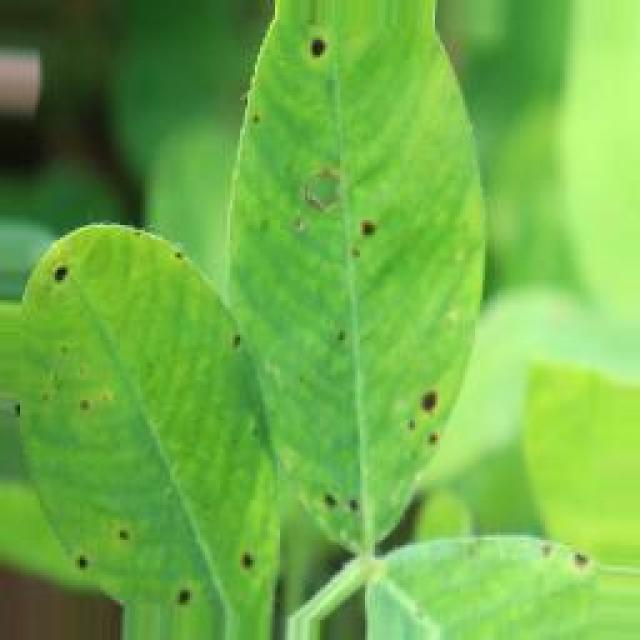Sigatoka: (40, 528, 140, 592), (302, 461, 373, 535), (408, 378, 463, 469), (39, 372, 109, 434), (281, 166, 336, 239), (34, 244, 96, 307), (206, 308, 257, 380), (534, 526, 592, 587), (149, 237, 206, 298), (300, 37, 359, 79), (151, 555, 194, 611), (344, 210, 388, 262), (233, 536, 270, 588), (0, 377, 36, 421)
